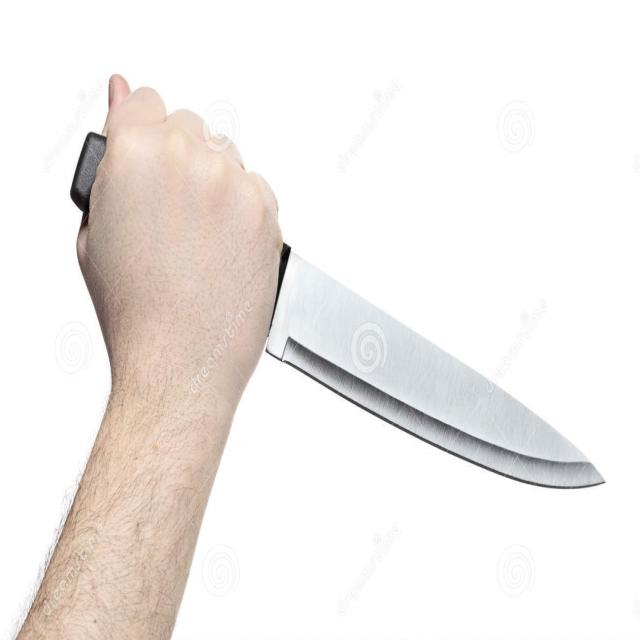knife: (284, 239, 609, 513)
